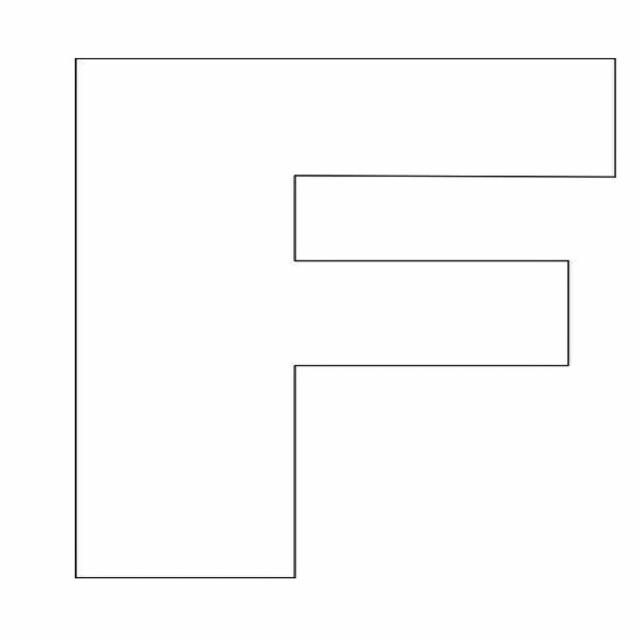F: (28, 16, 635, 620)
